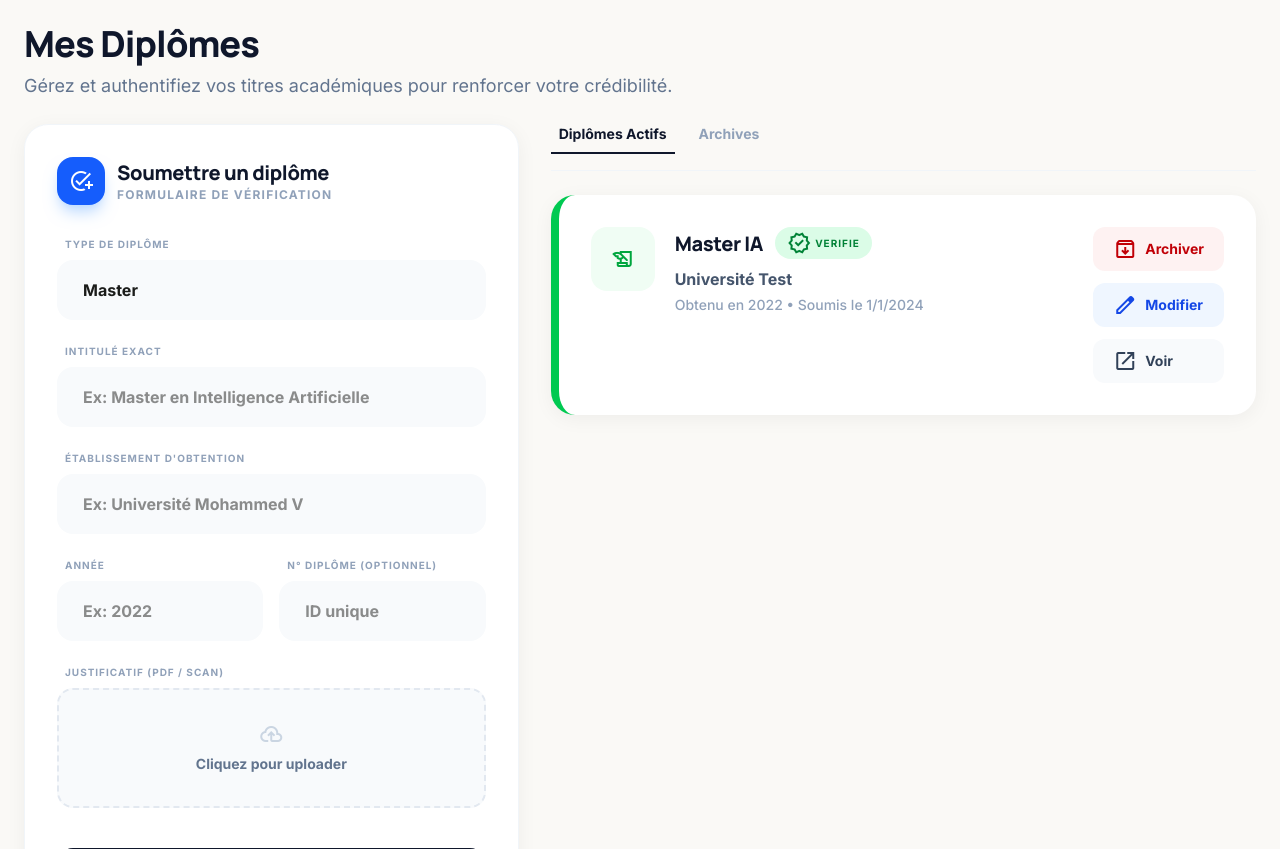
it: EnseignantDiplomes › filtre entre diplômes actifs et archives
Check: the heading "Master IA" is shown, box [675, 230, 763, 256]
Check: the text "Licence Info" is not shown
Click the button "Archives" at (729, 139), box [690, 124, 767, 154]
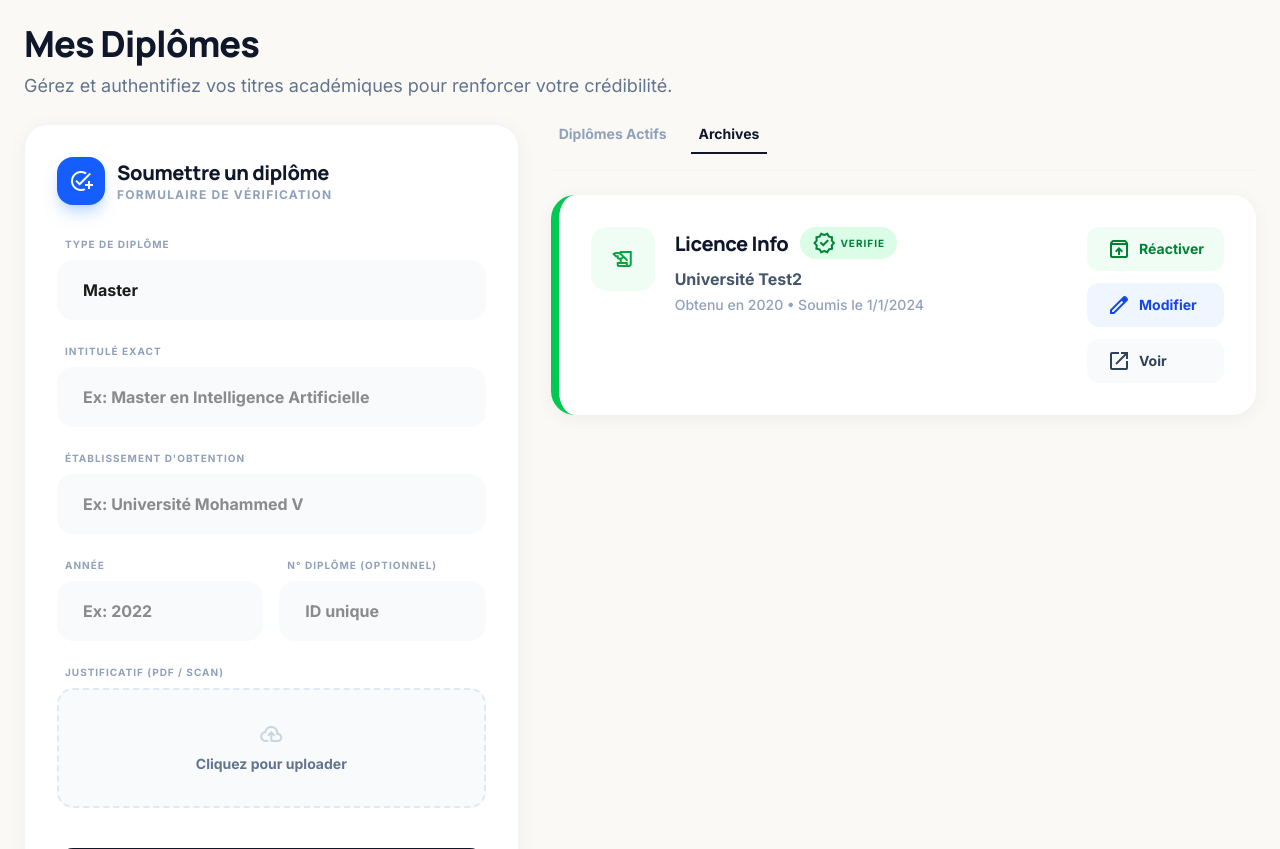
Check: the heading "Licence Info" is shown, box [675, 230, 788, 256]
Check: the heading "Master IA" is gone
